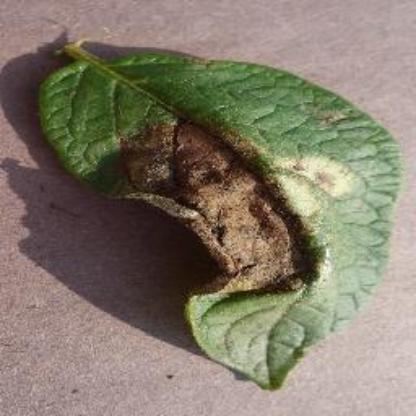Late-Blight: (34, 26, 396, 390)
